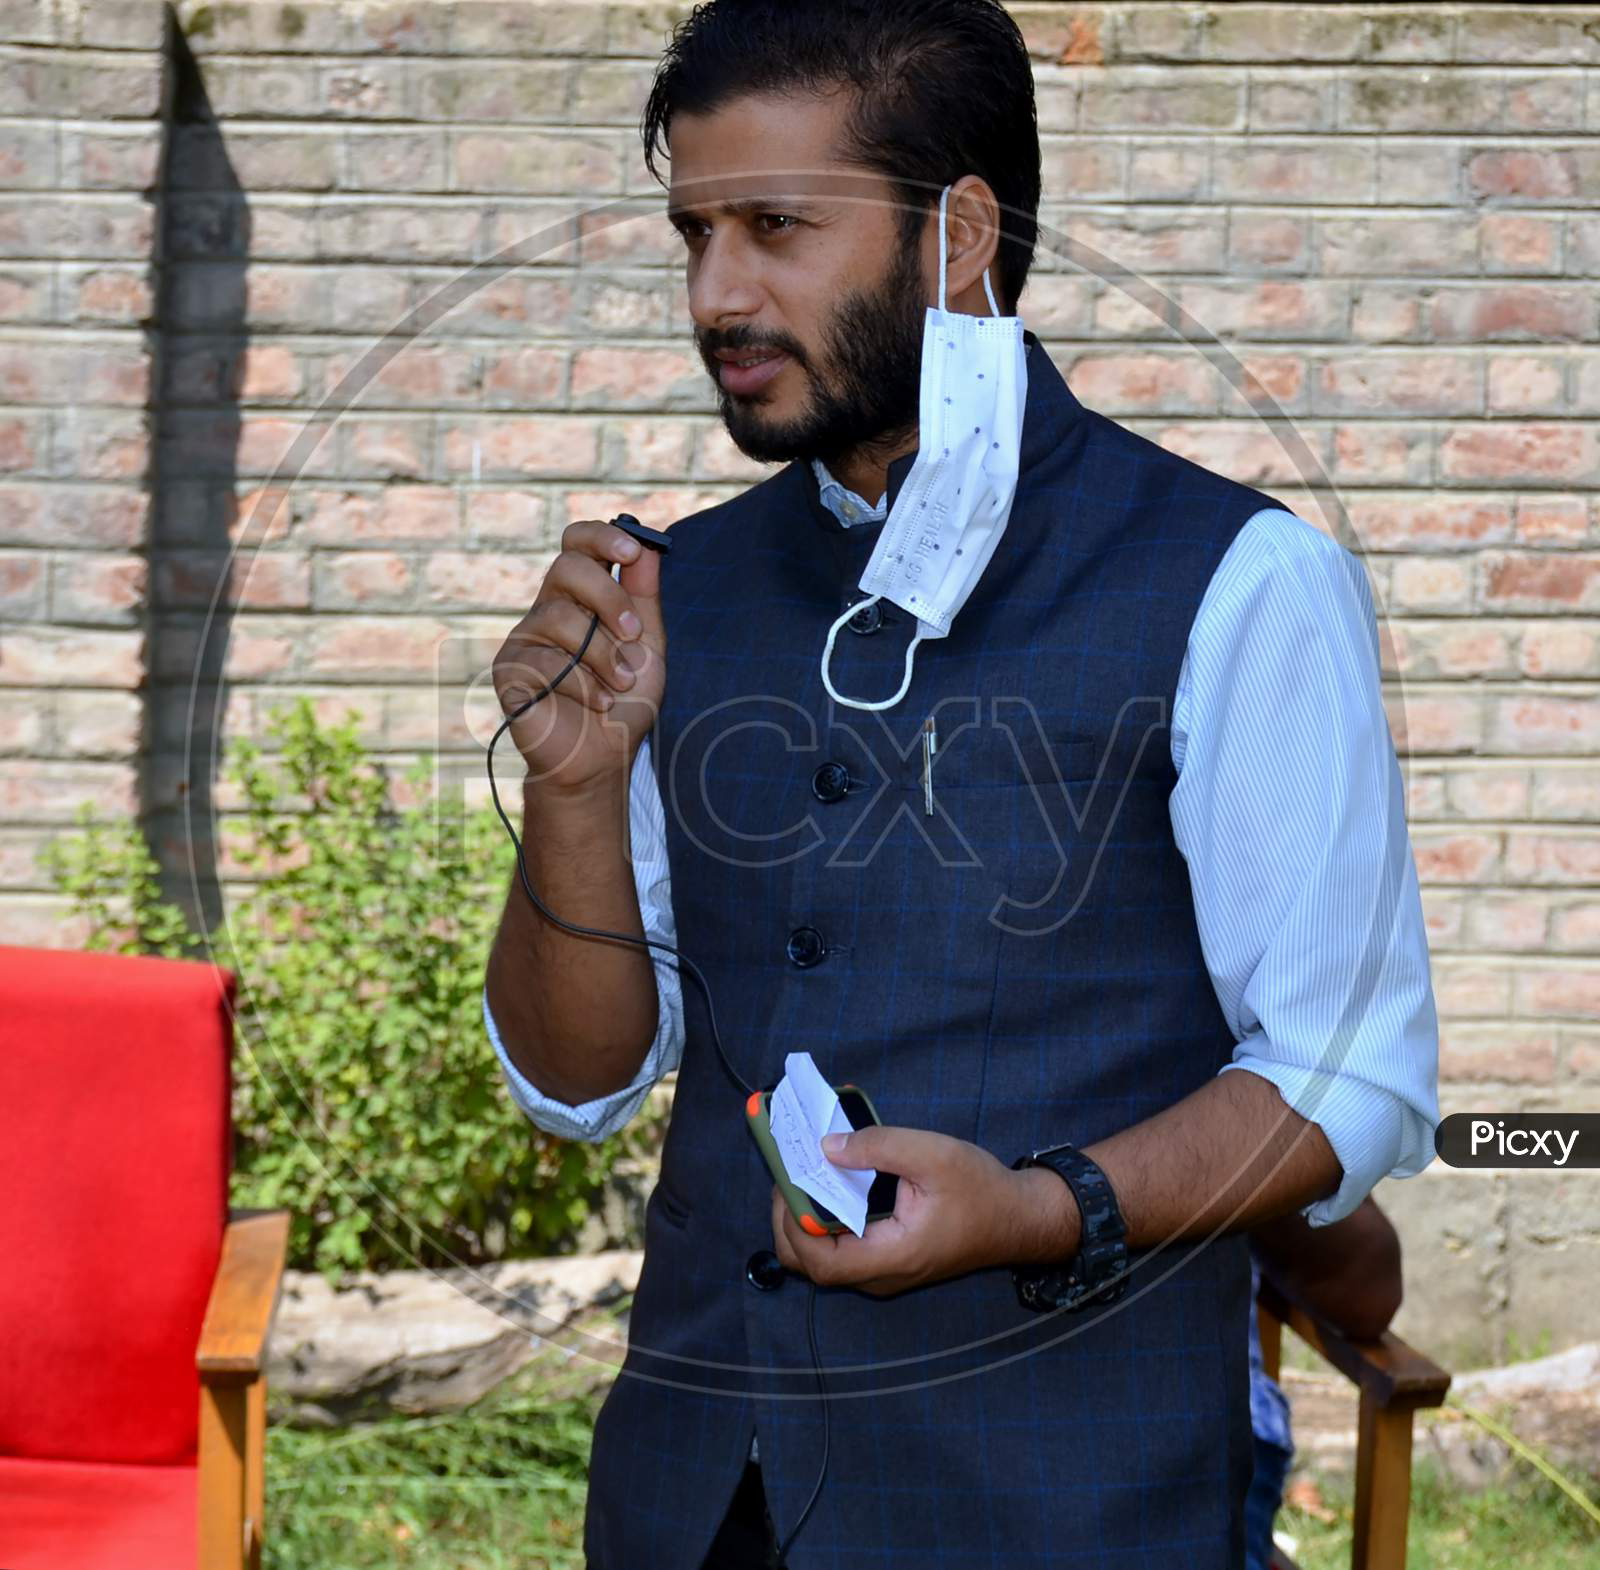without_mask: (665, 162, 952, 472)
